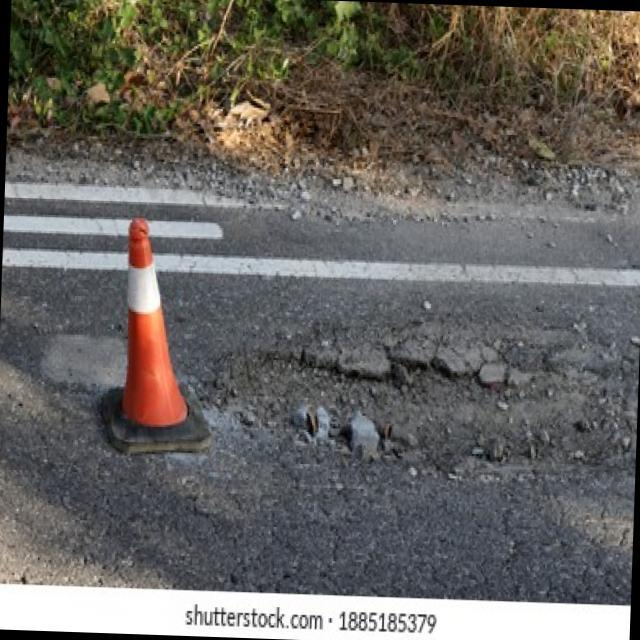Pothole: (208, 341, 638, 477)
